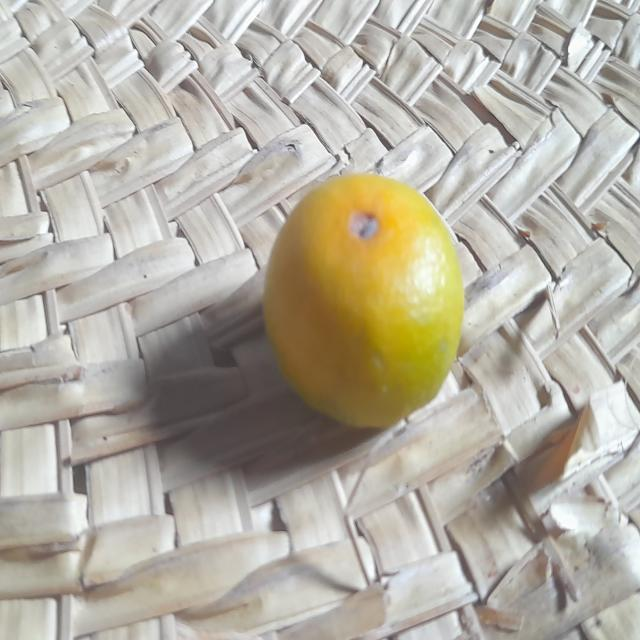greening: (257, 162, 475, 436)
